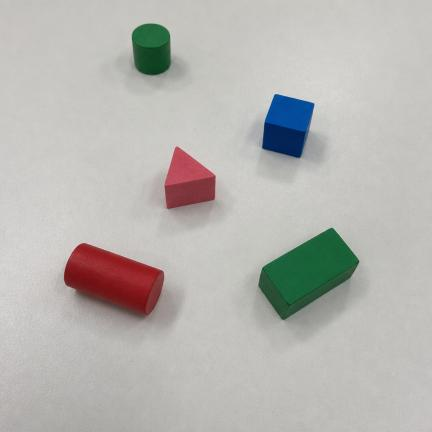BuildingBlocks: (259, 229, 359, 319), (65, 244, 164, 314), (263, 95, 314, 157), (165, 147, 215, 208), (133, 24, 170, 74)
